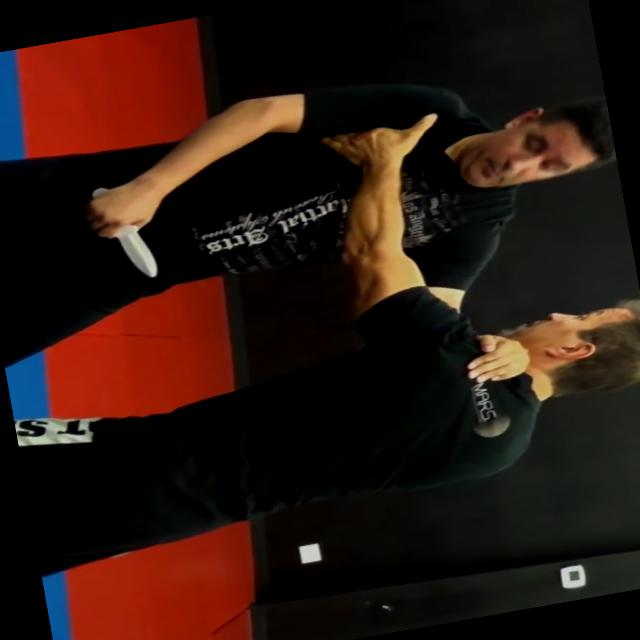knife: (78, 174, 167, 290)
